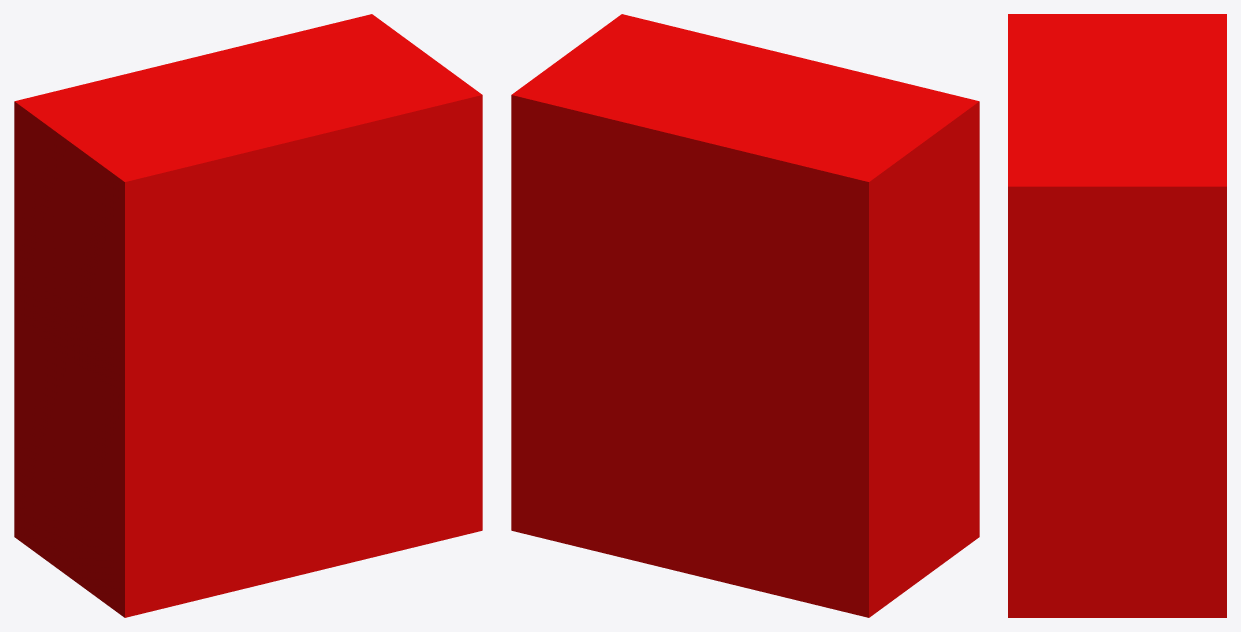
Rendered from distal_phalanx3_lvs_col.dae.
3 views of the same model, side by side, from view 1: azimuth 30°, elevation 25°; view 2: azimuth 150°, elevation 25°; view 3: azimuth 270°, elevation 25° (orthographic).
Parts seen in each view (by area): view 1: node0; view 2: node0; view 3: node0.
Boxes of the visible parts, box(x1,y1,x2,y2) form: node0: box(14, 14, 482, 617); node0: box(511, 14, 979, 617); node0: box(1008, 14, 1226, 617).
Size of the model in its own units: 0.00774 by 0.00901 by 0.00414.
